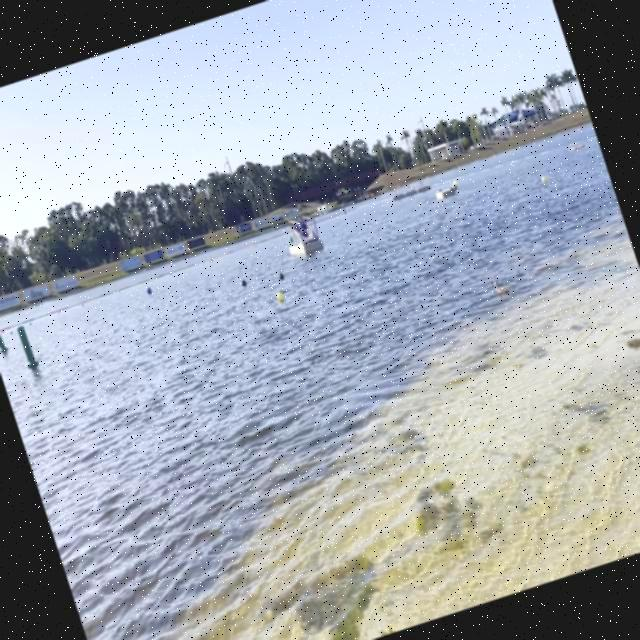buoy: (276, 290, 284, 302), (146, 285, 154, 295), (240, 279, 248, 289), (540, 174, 548, 183), (278, 272, 286, 280), (289, 236, 295, 244)
